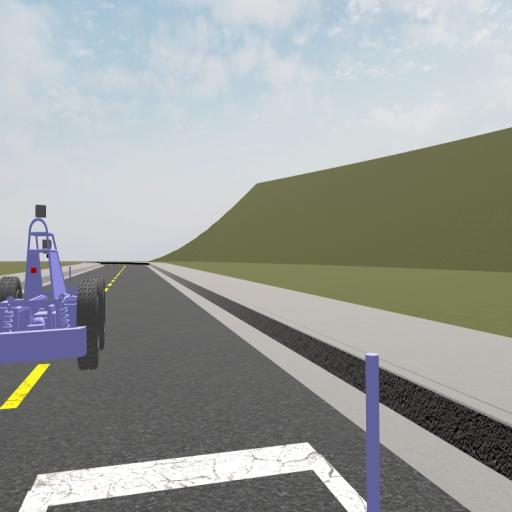ERP-42: (1, 204, 106, 370)
